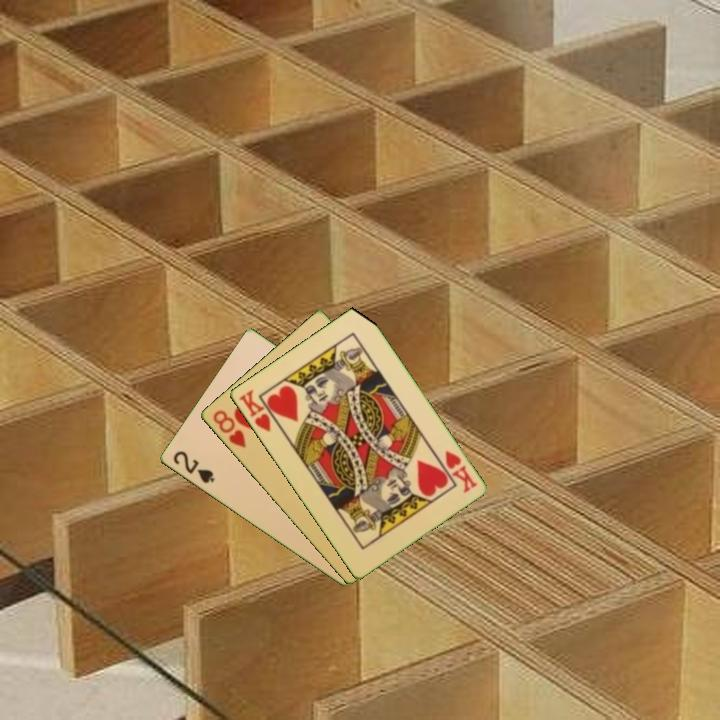2s: (169, 447, 217, 486)
8h: (209, 406, 249, 451)
Kh: (235, 386, 283, 435), (441, 447, 480, 496)
